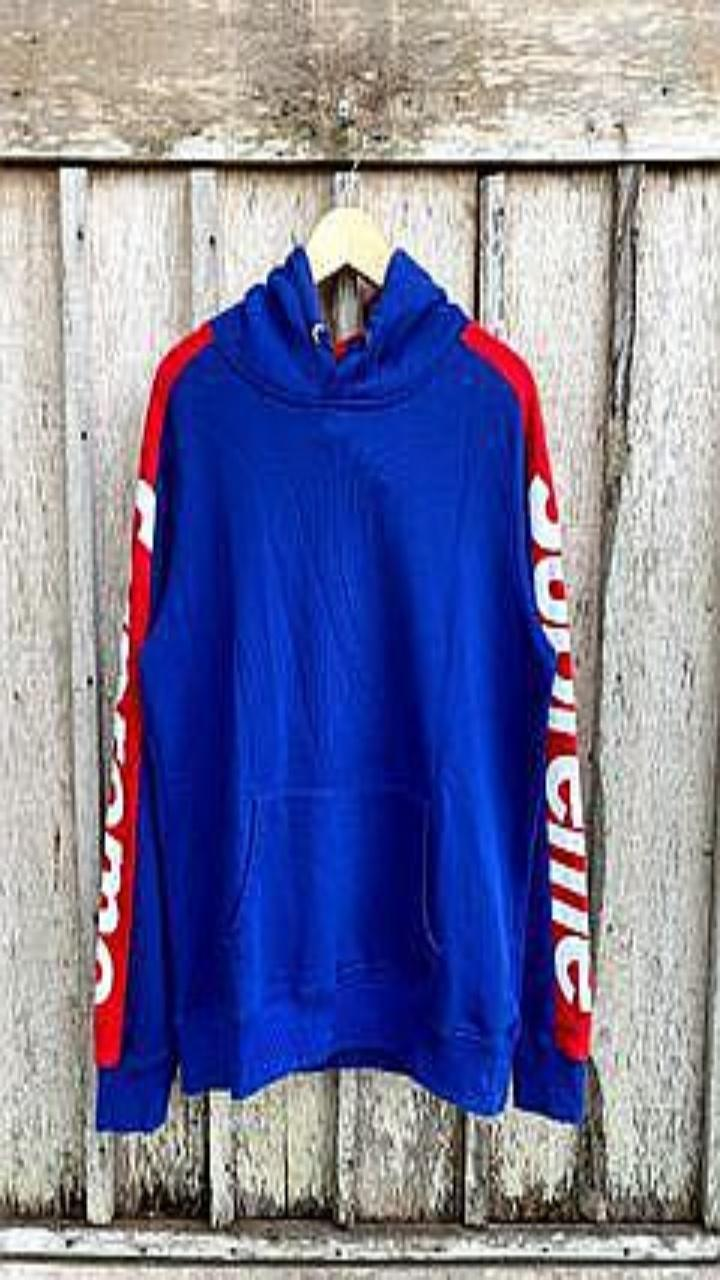Hoodie: (94, 244, 593, 1130)
